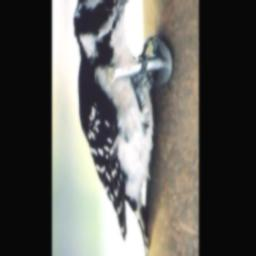Woodpecker: (73, 0, 159, 256)
